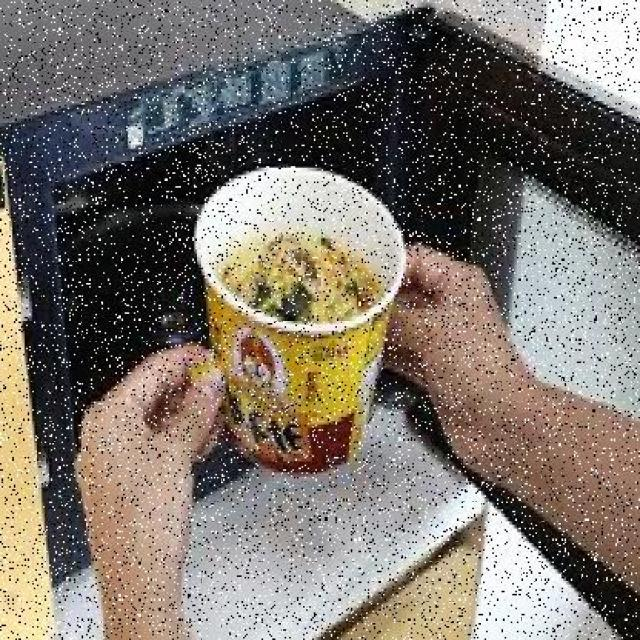Miscellaneous: (176, 162, 395, 464)
